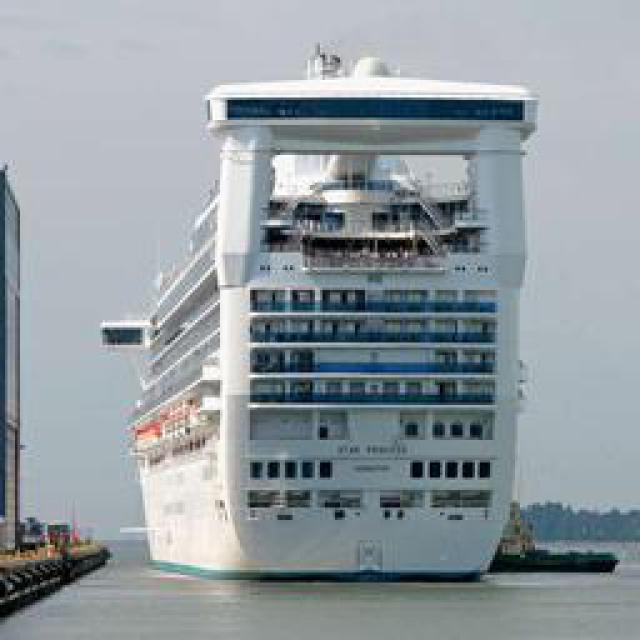Ship: (128, 98, 533, 583)
